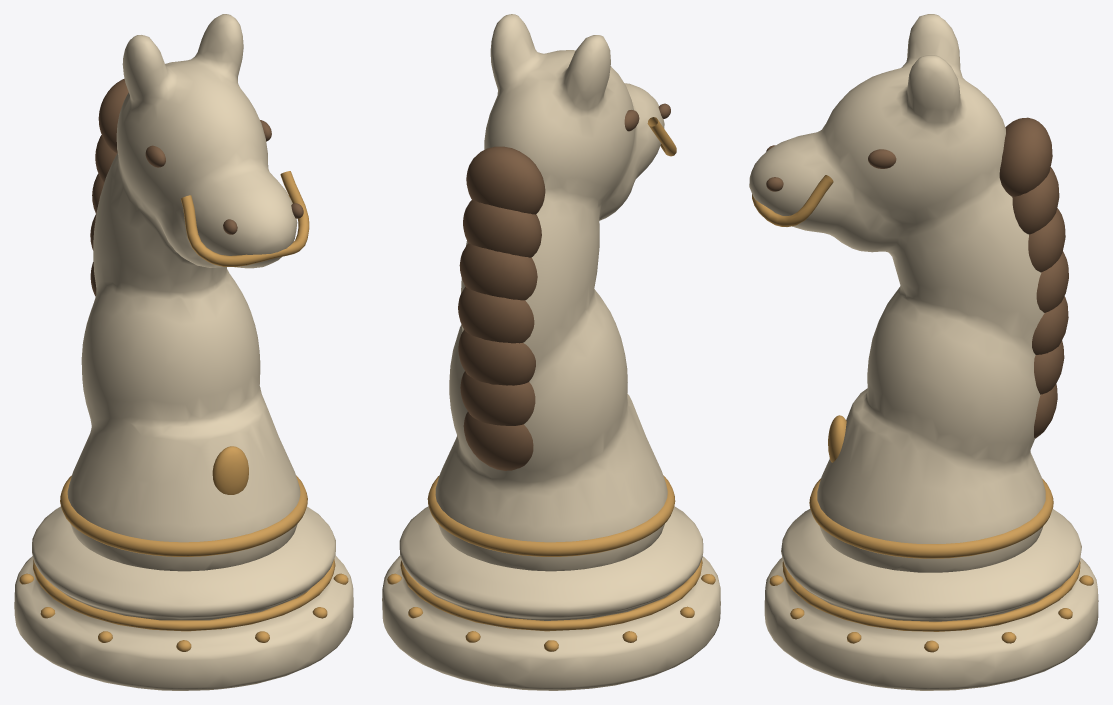
The model's file is knight.glb.
The picture shows the model from 3 angles, left to right: view 1: azimuth 30°, elevation 25°; view 2: azimuth 150°, elevation 25°; view 3: azimuth 270°, elevation 25°; orthographic projection.
Visible parts, largest first — view 1: PIECE_Knight_Sculpture, PIECE_Knight_Base; view 2: PIECE_Knight_Sculpture, PIECE_Knight_Base; view 3: PIECE_Knight_Sculpture, PIECE_Knight_Base.
Boxes of the visible parts, bbox=[...] form: PIECE_Knight_Sculpture: bbox=[60, 14, 309, 571]; PIECE_Knight_Base: bbox=[14, 506, 353, 690]; PIECE_Knight_Sculpture: bbox=[427, 14, 676, 571]; PIECE_Knight_Base: bbox=[382, 506, 720, 690]; PIECE_Knight_Sculpture: bbox=[749, 14, 1068, 572]; PIECE_Knight_Base: bbox=[764, 509, 1098, 690].
Bounding box in the file's own units: 0.719 × 1.4 × 0.7515.
